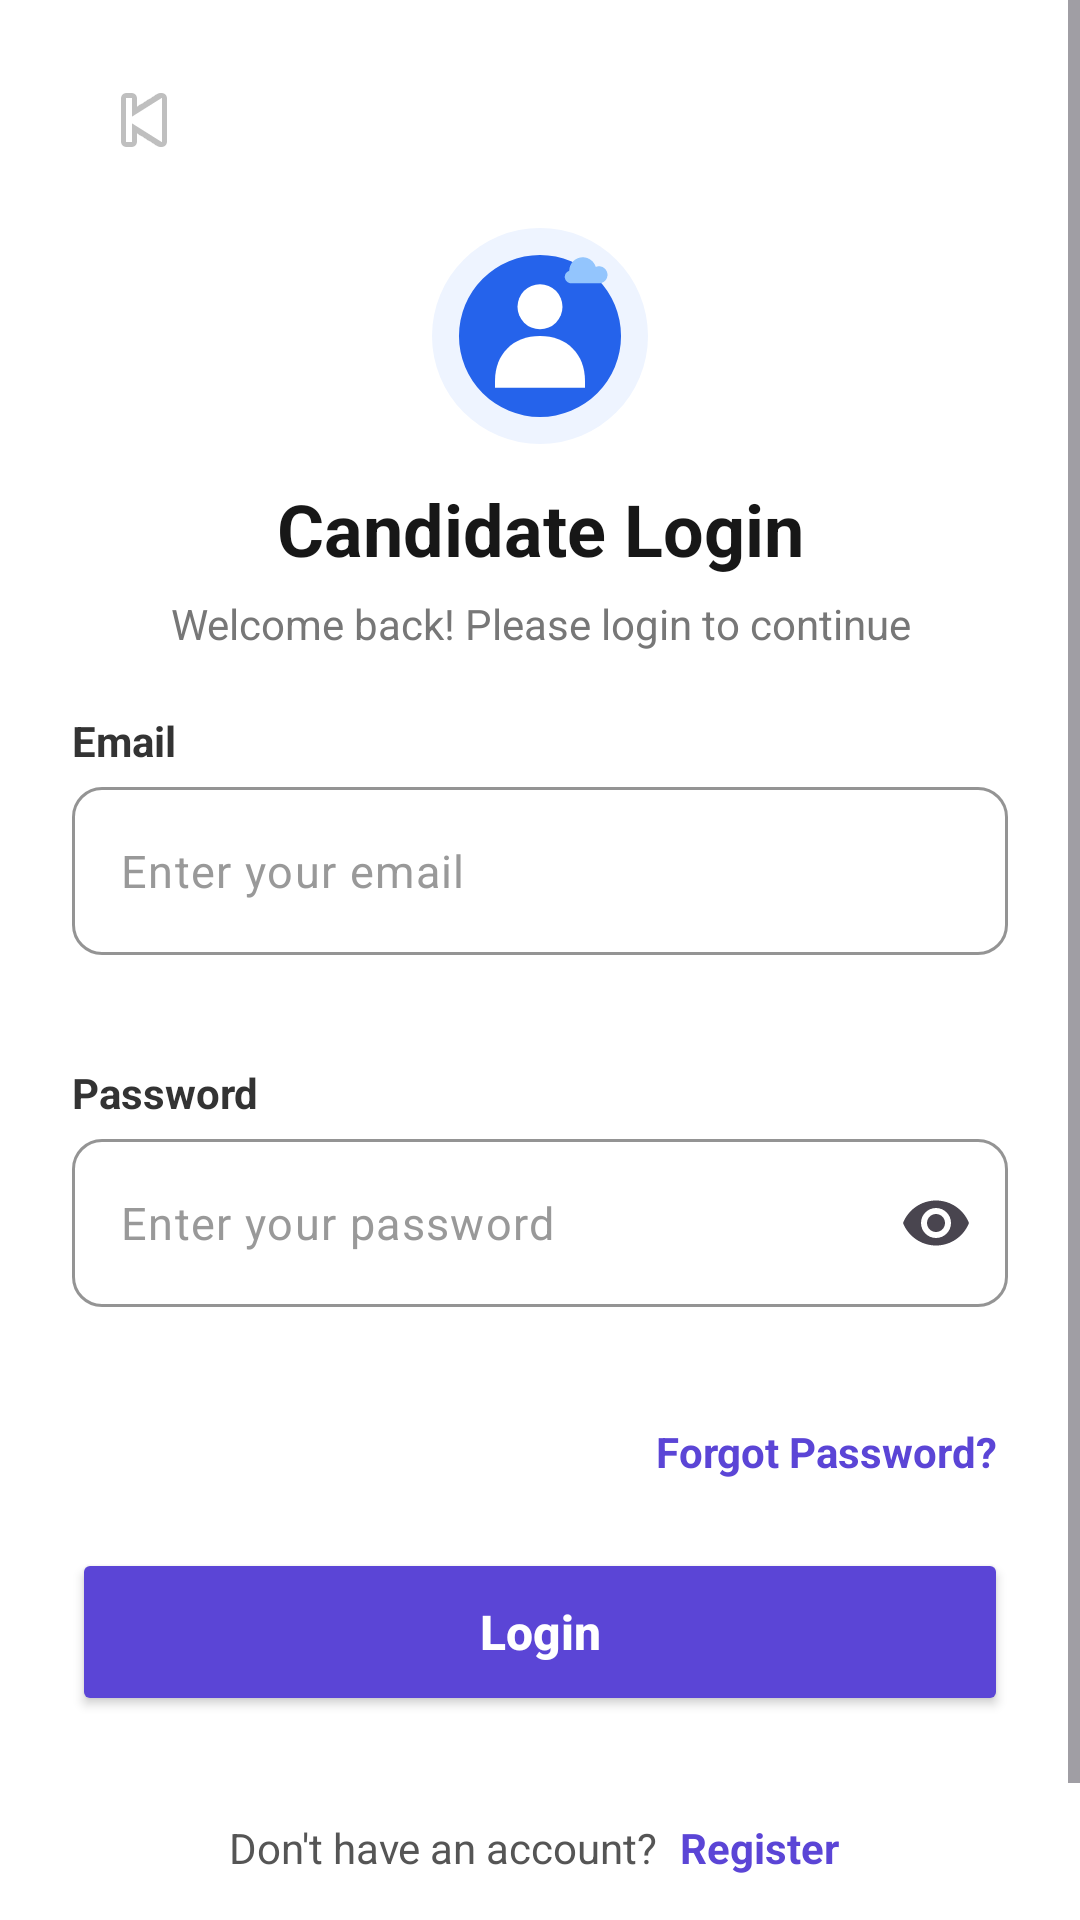

Screen size 1080px×1920px. Icon name, then its box in pixels as (x1, y1, x2, y2):
Back: (121, 93, 167, 147)
